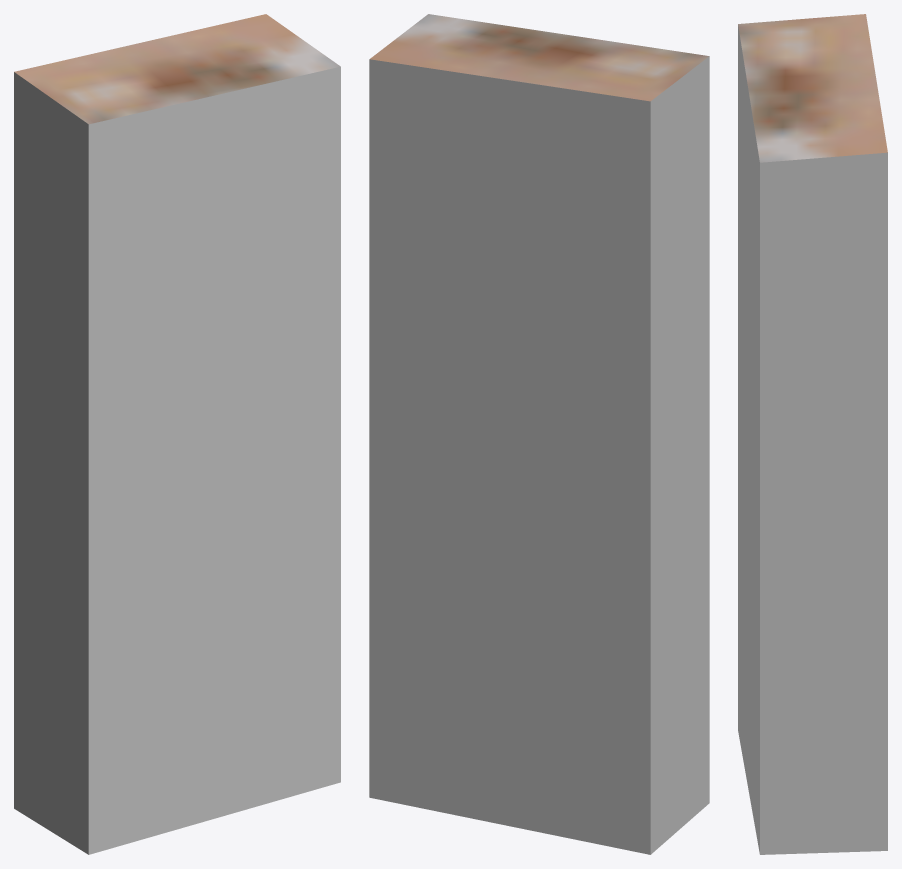
File: DEBW_0010007THWE.gltf
3 renders of one model, left to right at view 1: azimuth 30°, elevation 25°; view 2: azimuth 150°, elevation 25°; view 3: azimuth 270°, elevation 25°, orthographic. The views are drawn at different scales.
Visible parts, largest first — view 1: Z_UP; view 2: Z_UP; view 3: Z_UP.
Boxes of the visible parts, bbox=[...] form: Z_UP: bbox=[14, 14, 340, 854]; Z_UP: bbox=[369, 14, 709, 854]; Z_UP: bbox=[738, 14, 887, 854].
Bounding box in the file's own units: 4.44 × 11.49 × 2.19.
Materials: 2 (1 with a texture image).
